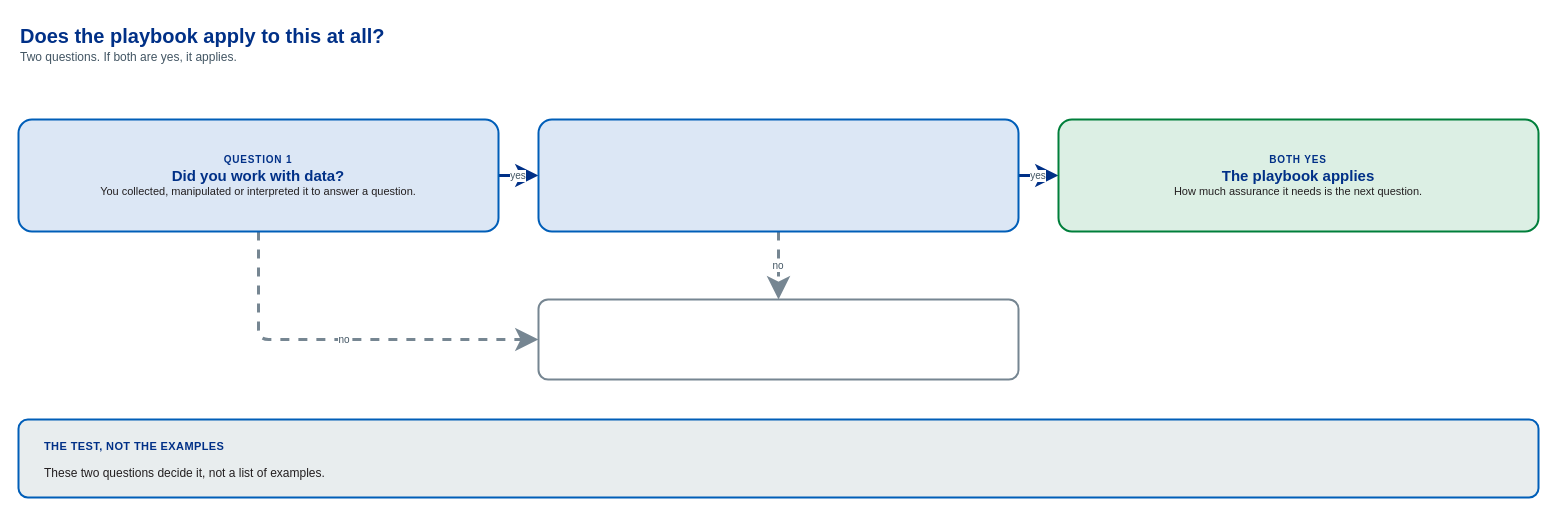
Image size: 1556x515. Some labels were removed from this diagram. Each missing label, with the box of its shape:
EITHER NO The playbook does not apply: (537, 298, 1019, 380)
QUESTION 2 Will anyone act on the answer?: (537, 118, 1019, 232)
